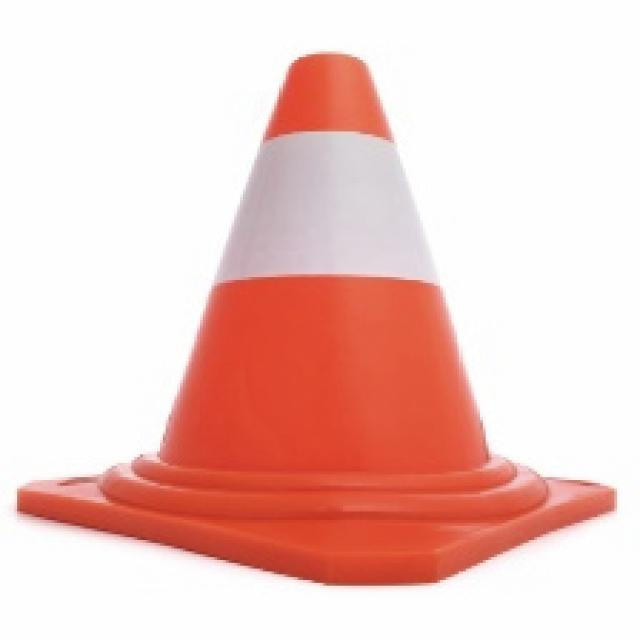cone: (11, 46, 619, 591)
